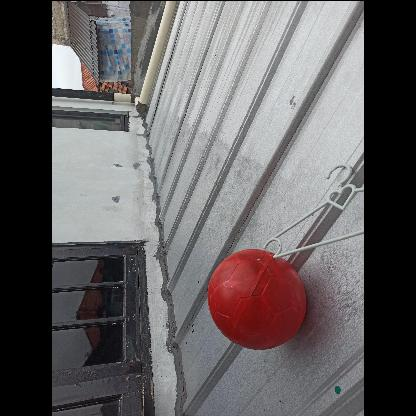red_ball: (204, 248, 306, 348)
